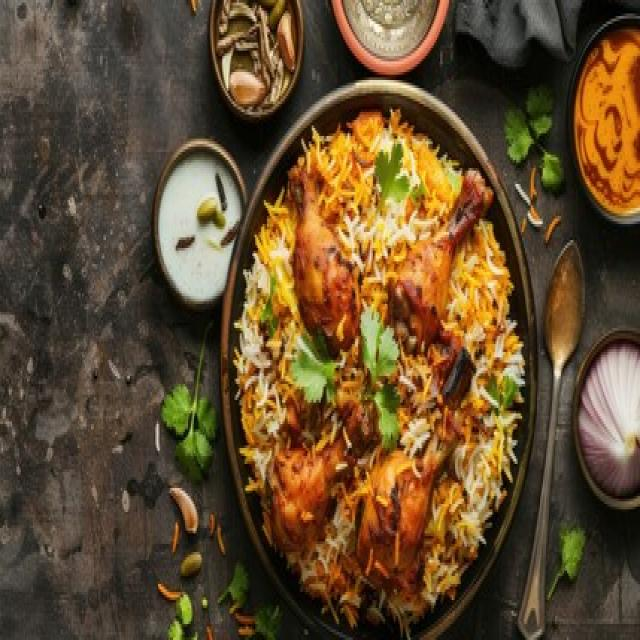BIRIYANI: (239, 110, 519, 616)
CURRY: (568, 19, 639, 221)
